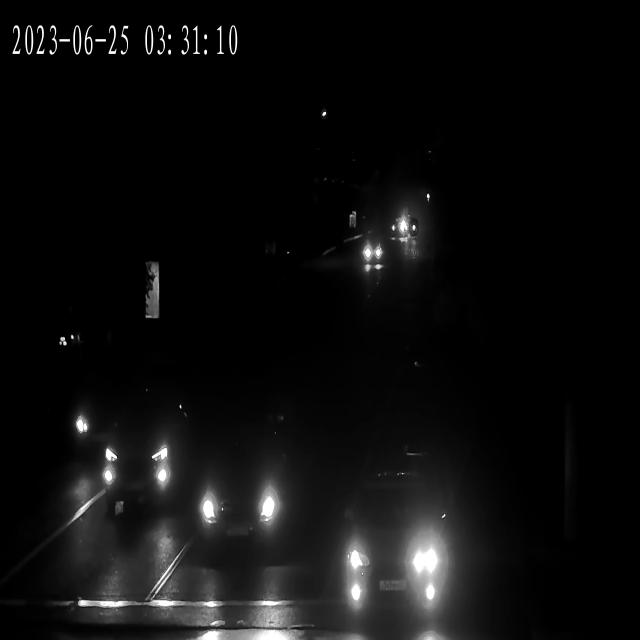Car: (326, 478, 451, 605), (180, 437, 288, 558), (92, 400, 203, 511), (67, 386, 139, 458), (362, 237, 386, 267), (390, 218, 410, 235)
